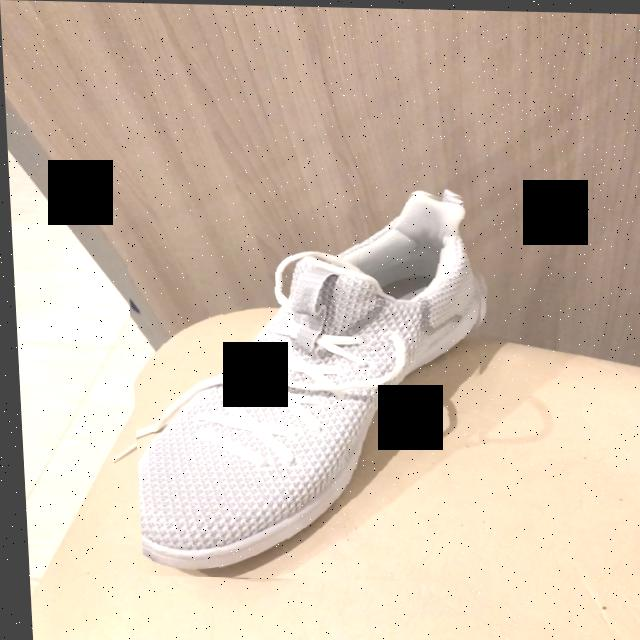shoe: (133, 193, 480, 577)
